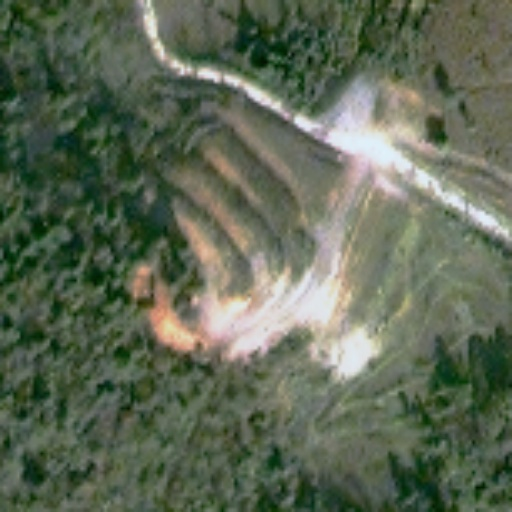landslide: (134, 267, 196, 354)
